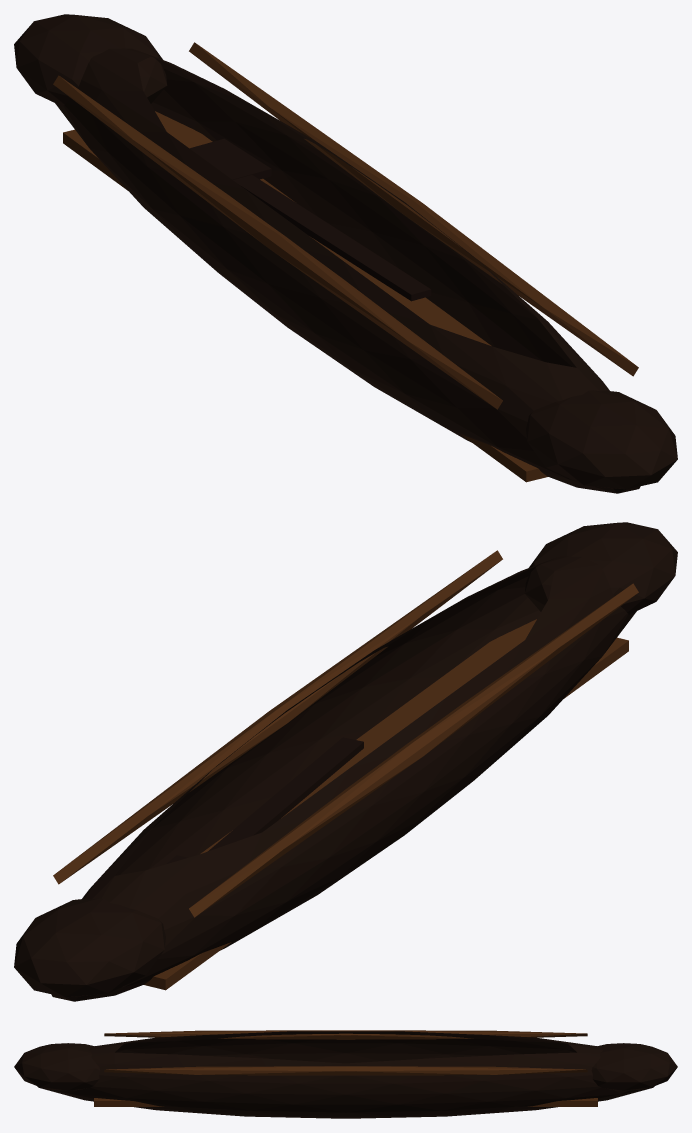
The model's file is dugout.fbx.
The picture shows the model from 3 angles, top to bottom: view 1: azimuth 30°, elevation 25°; view 2: azimuth 150°, elevation 25°; view 3: azimuth 270°, elevation 25°; orthographic projection. The views are drawn at different scales.
Visible parts, largest first — view 1: dugout; view 2: dugout; view 3: dugout.
Boxes of the visible parts, bbox=[...] form: dugout: bbox=[14, 14, 677, 493]; dugout: bbox=[14, 522, 677, 1001]; dugout: bbox=[14, 1030, 677, 1118].
Size of the model in its own units: 0.76 by 0.586 by 5.14.
